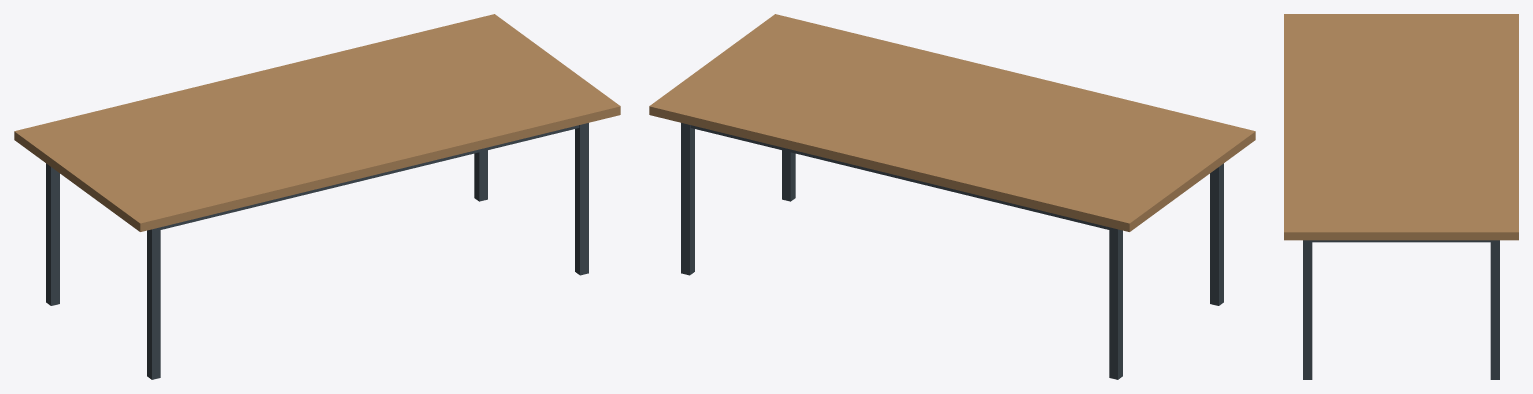
The model's file is meetingTable-4.glb.
3 renders of one model, left to right at view 1: azimuth 30°, elevation 25°; view 2: azimuth 150°, elevation 25°; view 3: azimuth 270°, elevation 25°, orthographic. The views are drawn at different scales.
Parts seen in each view (by area): view 1: meetingTable:4:editor; view 2: meetingTable:4:editor; view 3: meetingTable:4:editor.
Boxes of the visible parts, left/top/right/bottom form: meetingTable:4:editor: left=14, top=14, right=620, bottom=379; meetingTable:4:editor: left=649, top=14, right=1255, bottom=379; meetingTable:4:editor: left=1284, top=14, right=1518, bottom=379.
Size of the model in its own units: 2.2 by 0.74 by 1.
